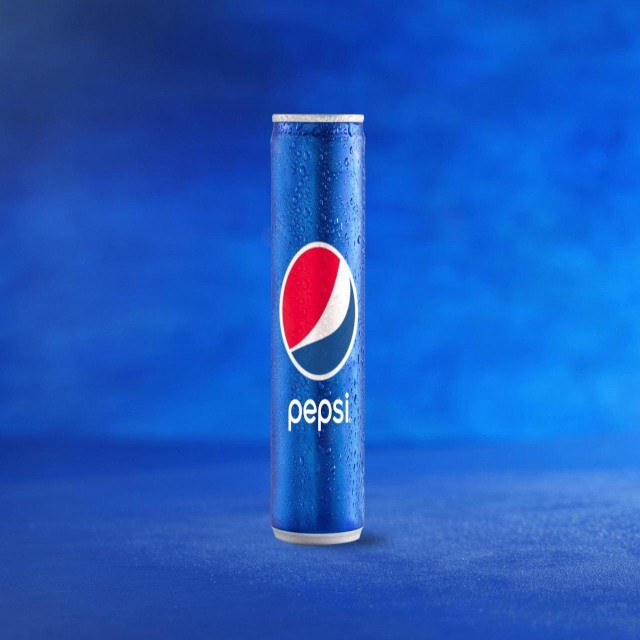pepsi: (278, 235, 360, 382)
